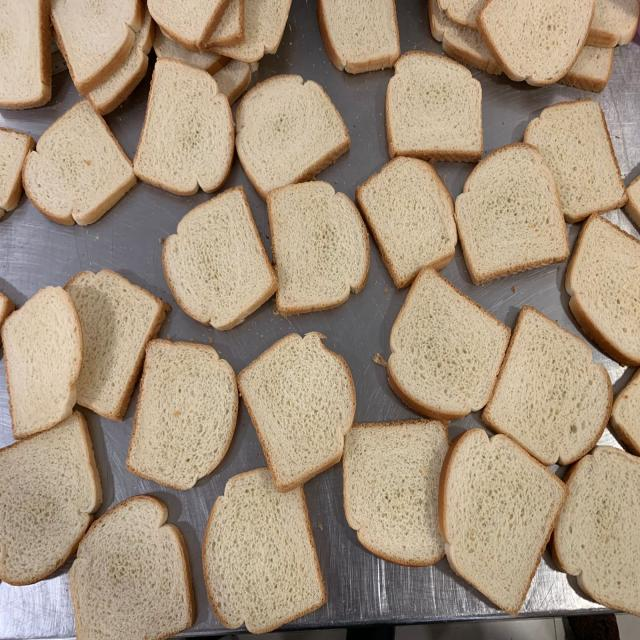sliced_bread: (438, 427, 569, 615), (483, 305, 612, 467), (202, 468, 328, 632), (238, 333, 358, 491), (389, 267, 511, 422), (70, 495, 194, 640), (128, 341, 238, 490), (163, 188, 277, 330), (457, 143, 570, 285), (343, 420, 450, 565), (23, 98, 137, 227), (236, 75, 349, 202), (267, 182, 370, 316), (132, 59, 233, 194), (358, 156, 457, 288), (3, 288, 82, 438), (386, 51, 482, 163)
